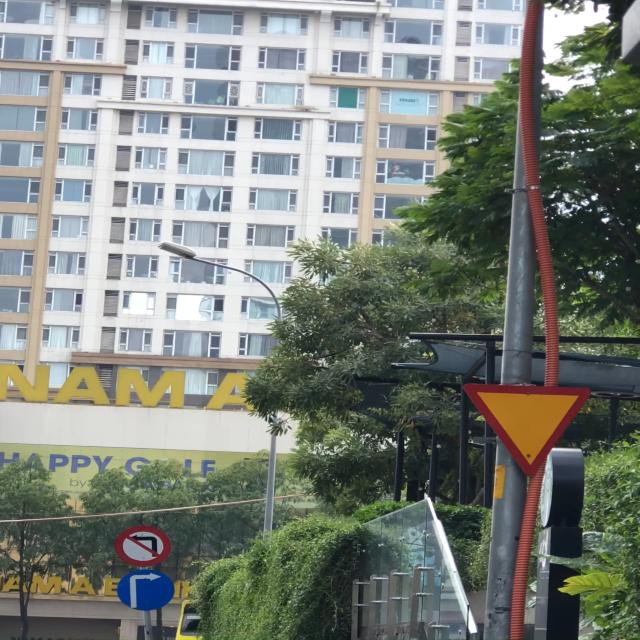Bien bao cam re trai: (117, 520, 175, 566)
Bien bao giao nhau voi duong uu tien: (456, 374, 589, 479)
Bien bao huong di phai theo: (115, 569, 184, 613)
